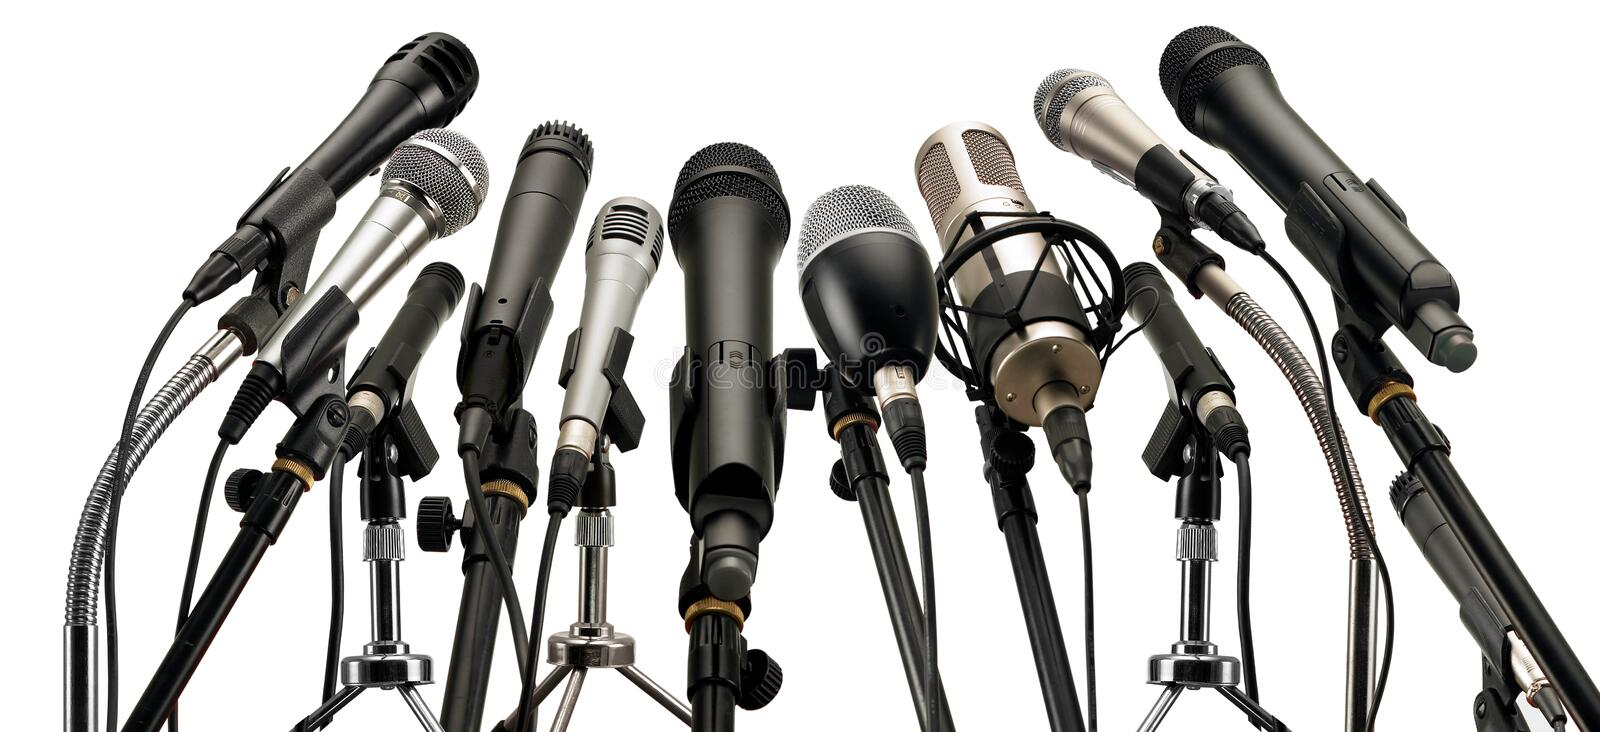microphone: (1157, 23, 1479, 375), (215, 126, 491, 448), (180, 28, 481, 311), (913, 118, 1109, 431), (666, 139, 793, 604), (453, 117, 597, 458), (1030, 66, 1271, 259), (546, 194, 667, 523), (796, 183, 941, 420), (330, 259, 469, 463)
